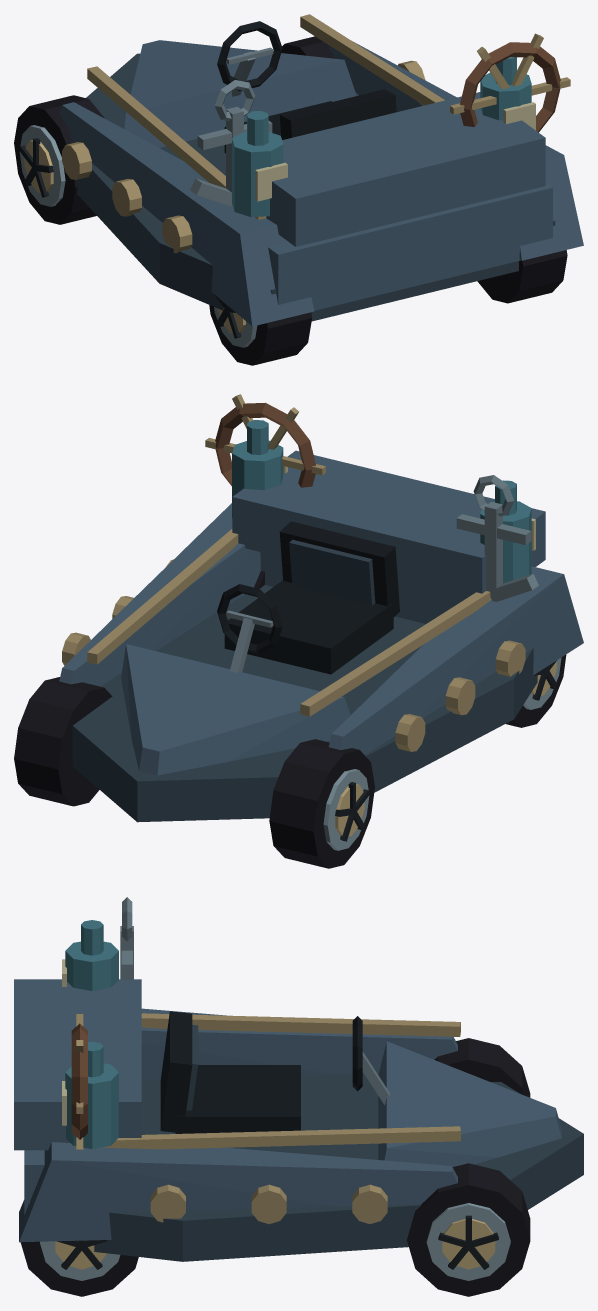
The model's file is kart.glb.
3 views of the same model, one above another, from view 1: azimuth 30°, elevation 25°; view 2: azimuth 150°, elevation 25°; view 3: azimuth 270°, elevation 25° (orthographic).
Visible parts, largest first — view 1: identity-ship-ship-pointed-bow-and-raised-stern, identity-ship-motif-bottles, wheel-front-left, identity-ship-driver-cockpit, identity-ship-motif-helm, wheel-rear-left, identity-ship-motif-anchor, wheel-rear-right, wheel-front-right; view 2: identity-ship-ship-pointed-bow-and-raised-stern, identity-ship-driver-cockpit, wheel-front-left, wheel-front-right, identity-ship-motif-bottles, identity-ship-motif-anchor, identity-ship-motif-helm, wheel-rear-left; view 3: identity-ship-ship-pointed-bow-and-raised-stern, identity-ship-driver-cockpit, wheel-front-right, identity-ship-motif-bottles, wheel-rear-right, wheel-front-left, identity-ship-motif-helm, identity-ship-motif-anchor.
Boxes of the visible parts, <box> form: identity-ship-ship-pointed-bow-and-raised-stern: <box>59,14,583,326</box>; identity-ship-motif-bottles: <box>232,57,535,217</box>; wheel-front-left: <box>14,95,104,224</box>; identity-ship-driver-cockpit: <box>217,21,396,153</box>; identity-ship-motif-helm: <box>450,33,570,132</box>; wheel-rear-left: <box>209,294,311,365</box>; identity-ship-motif-anchor: <box>190,80,272,206</box>; wheel-rear-right: <box>477,250,567,303</box>; wheel-front-right: <box>281,36,335,58</box>; identity-ship-ship-pointed-bow-and-raised-stern: <box>59,450,583,822</box>; identity-ship-driver-cockpit: <box>217,521,399,674</box>; wheel-front-left: <box>269,739,374,868</box>; wheel-front-right: <box>14,677,112,806</box>; identity-ship-motif-bottles: <box>232,420,535,583</box>; identity-ship-motif-anchor: <box>456,475,538,601</box>; identity-ship-motif-helm: <box>205,394,325,487</box>; wheel-rear-left: <box>506,654,566,727</box>; identity-ship-ship-pointed-bow-and-raised-stern: <box>14,979,583,1261</box>; identity-ship-driver-cockpit: <box>160,1011,389,1133</box>; wheel-front-right: <box>407,1163,530,1296</box>; identity-ship-motif-bottles: <box>62,920,118,1148</box>; wheel-rear-right: <box>20,1240,138,1296</box>; wheel-front-left: <box>434,1038,530,1097</box>; identity-ship-motif-helm: <box>71,1014,87,1149</box>; identity-ship-motif-anchor: <box>120,897,133,979</box>.
Bounding box in the file's own units: 2.02 × 1.4 × 2.77.
